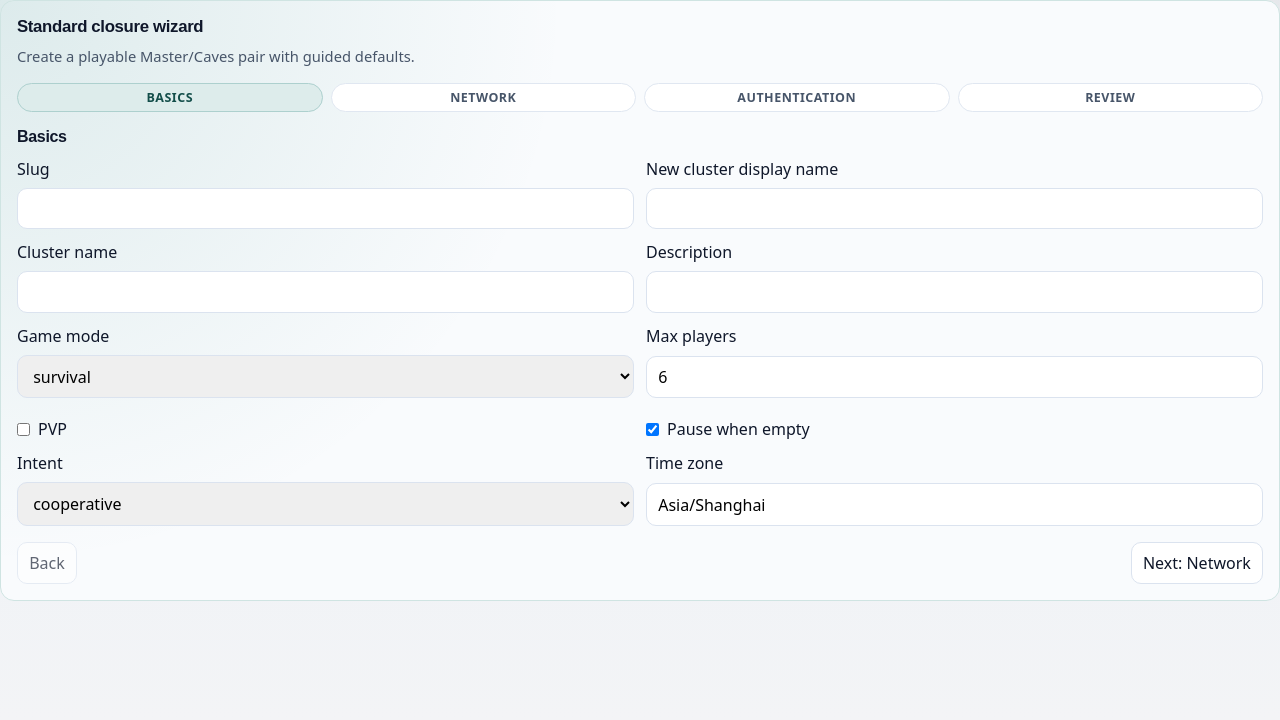
Scenario: CreateClusterWizard › requires max players to be an integer between 1 and 64
In the field labelled "Slug": (326, 208) [17, 188, 634, 229], type "cluster-b"
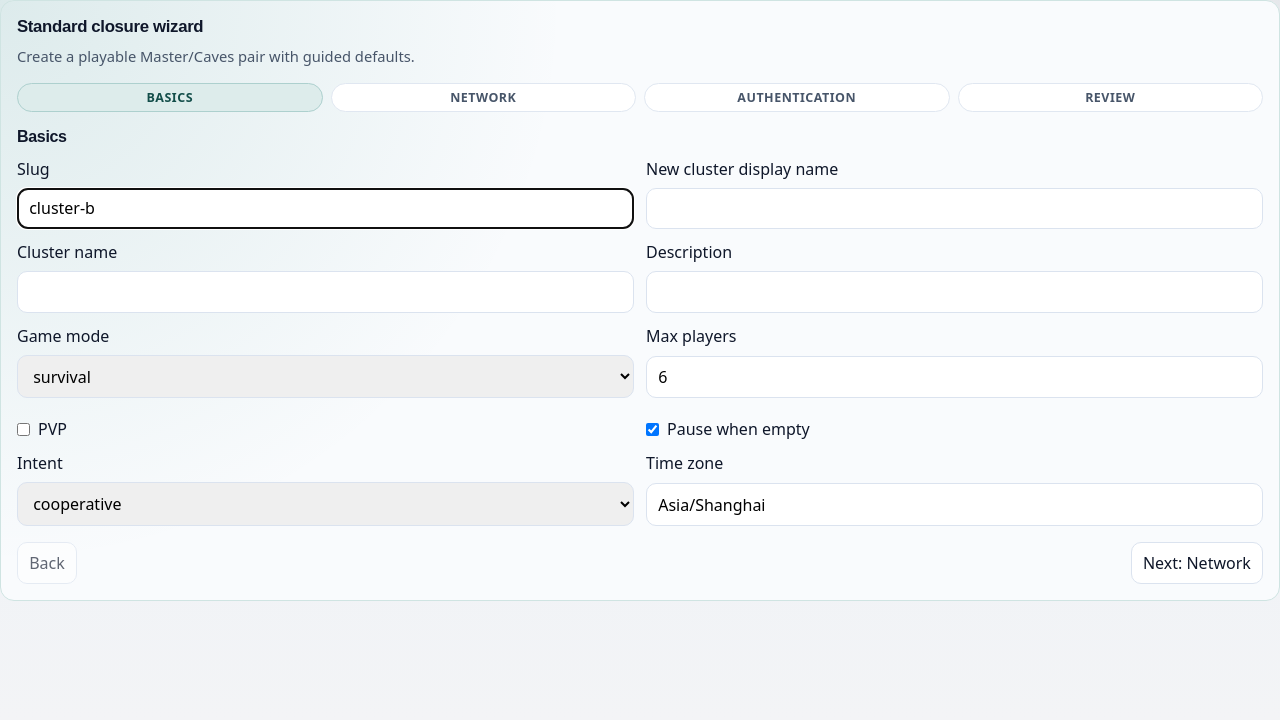
In the field labelled "New cluster display name": (954, 208) [646, 188, 1263, 229], type "Cluster B"
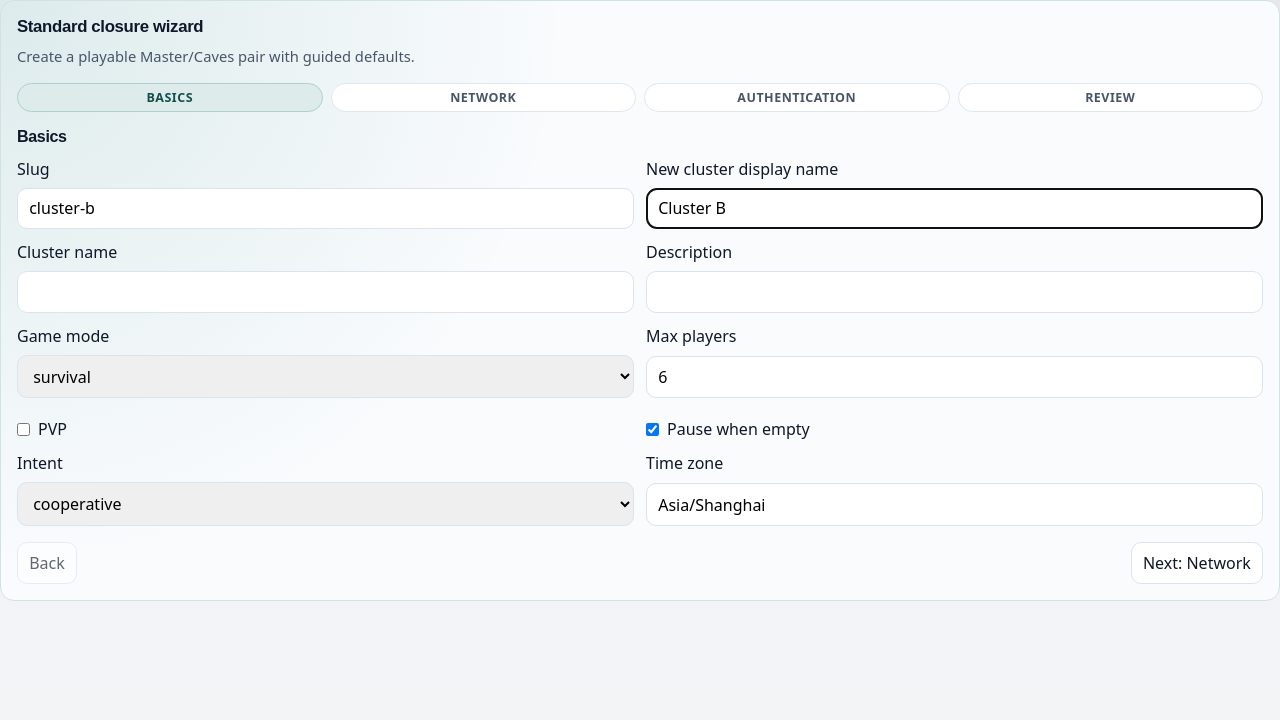
In the field labelled "Cluster name": (326, 292) [17, 271, 634, 313], type "Cluster_B"
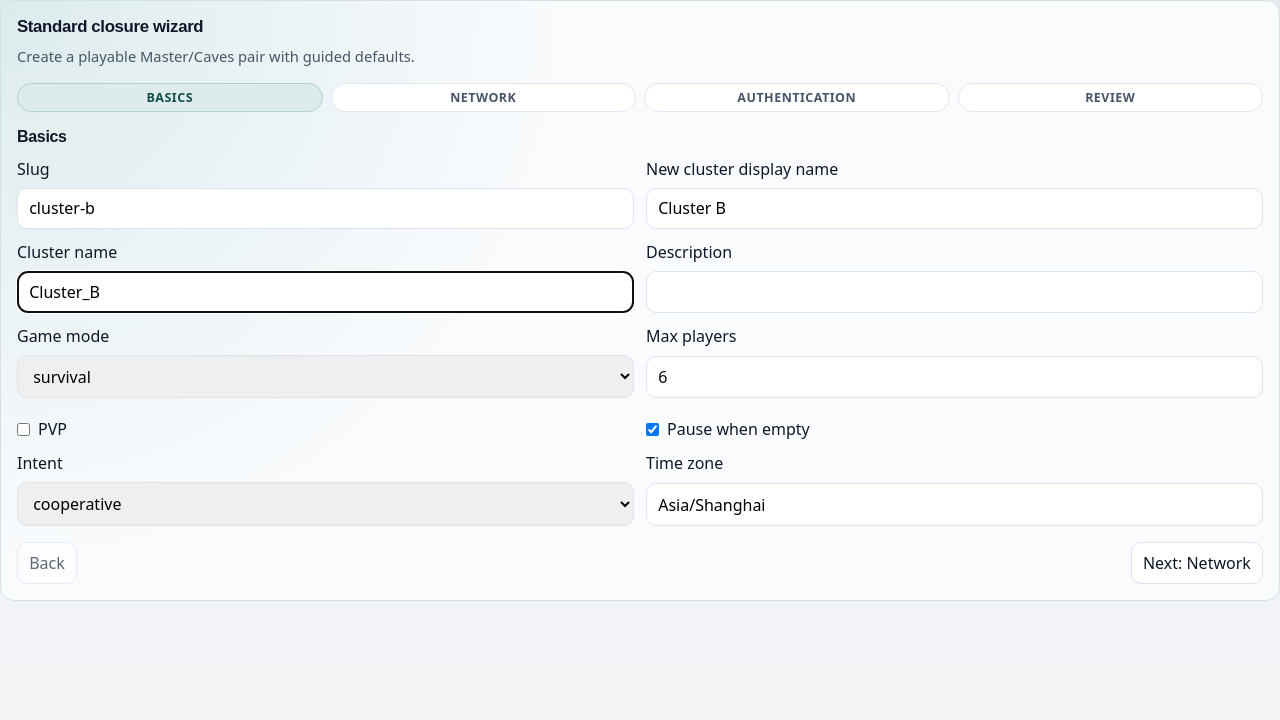
Replace the text in the number field labelled "Max players" with "0": (954, 377) [646, 356, 1263, 398]
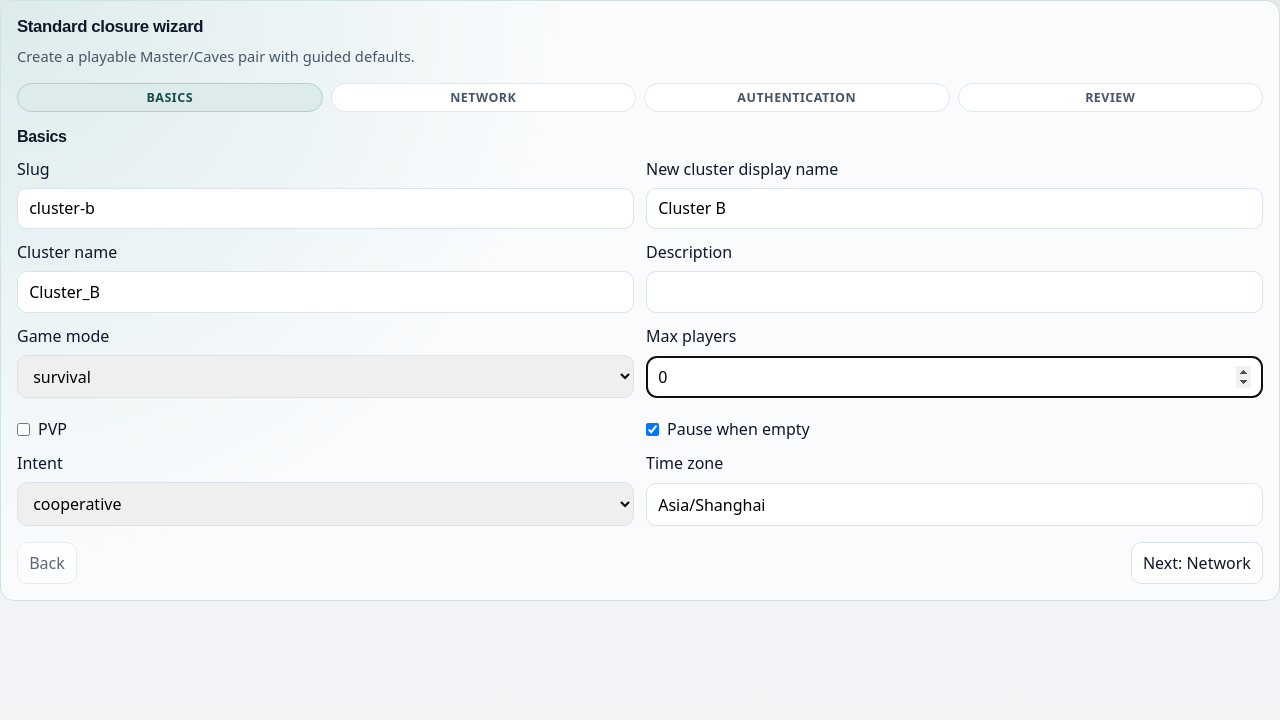
Click the button "Next: Network": (1197, 563) [1131, 542, 1263, 584]
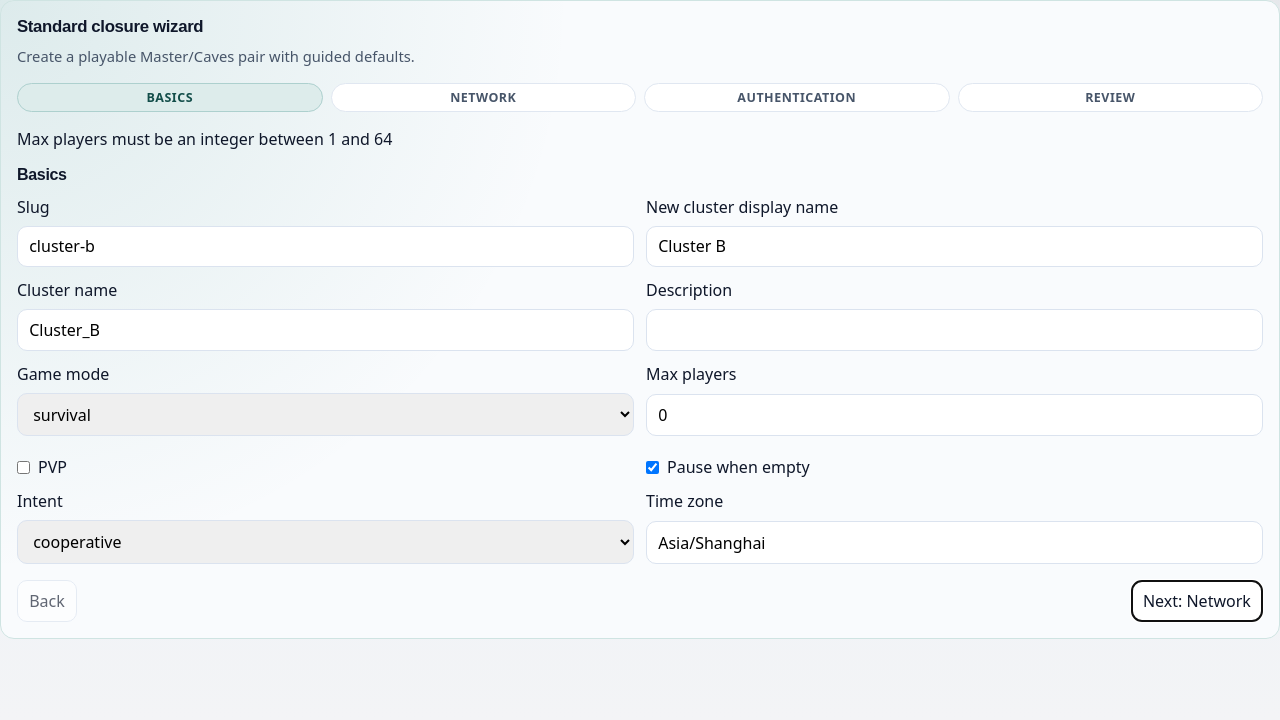
Expected: the heading "Basics" is shown, [17, 166, 67, 183]
Now the message reads "Max players must be an integer between 1 and 64", box [17, 128, 392, 150]
